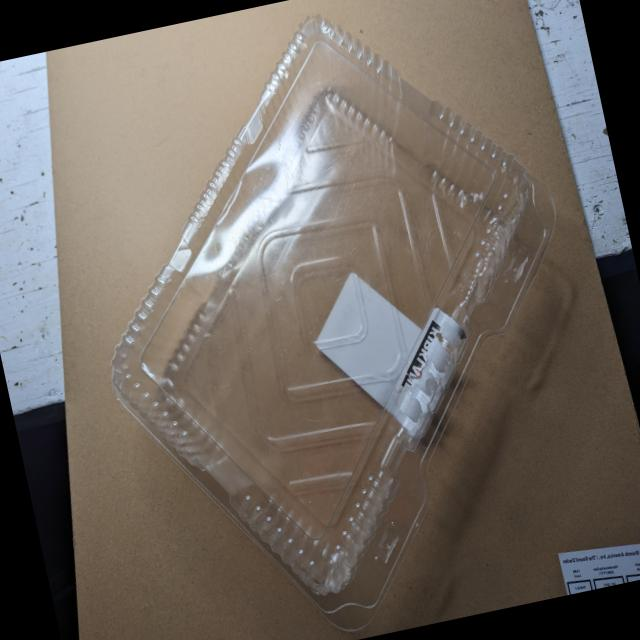Clamshell: (90, 0, 562, 640)
Label: (311, 267, 468, 446)
